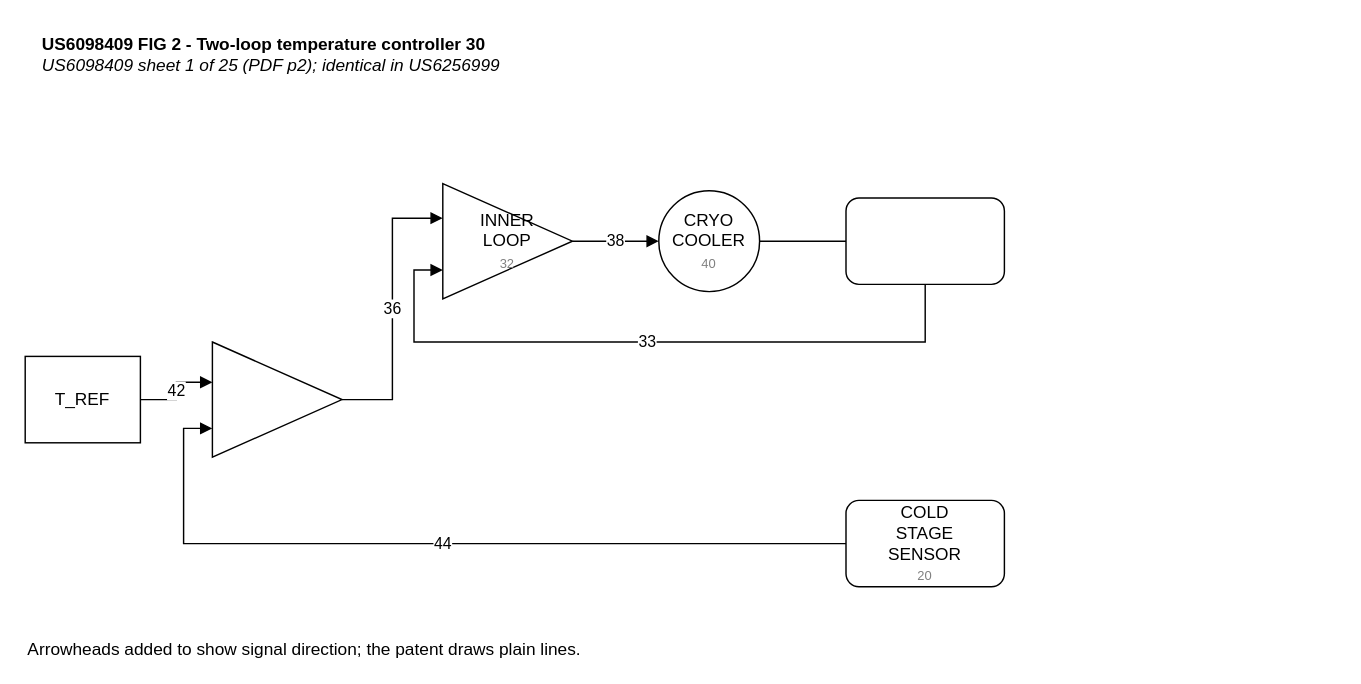
Image size: 1361x684. Some labels were removed from this diagram. Each missing label, with the centre of its shape:
COLD FINGER SENSOR 16: pixel 924 240
OUTER LOOP 34: pixel 276 399
